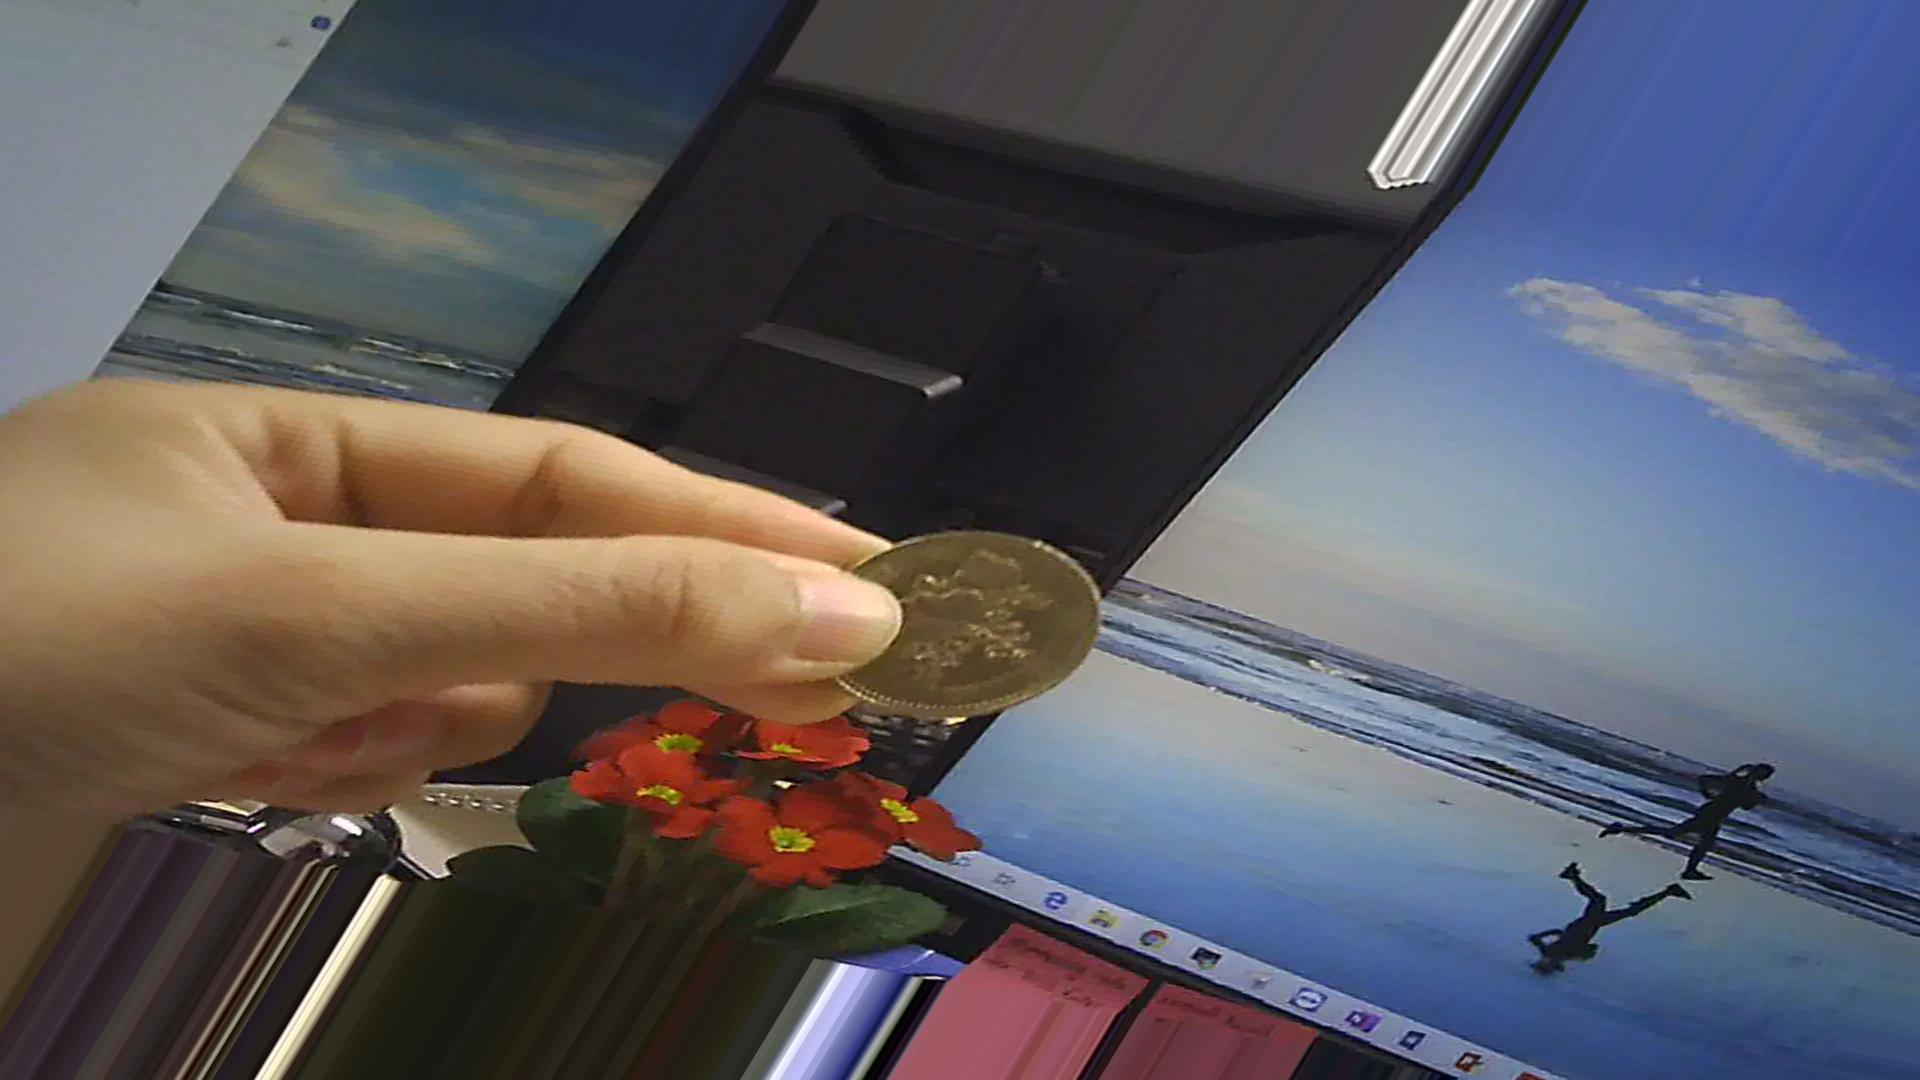500 Yen: (832, 524, 1104, 719)
